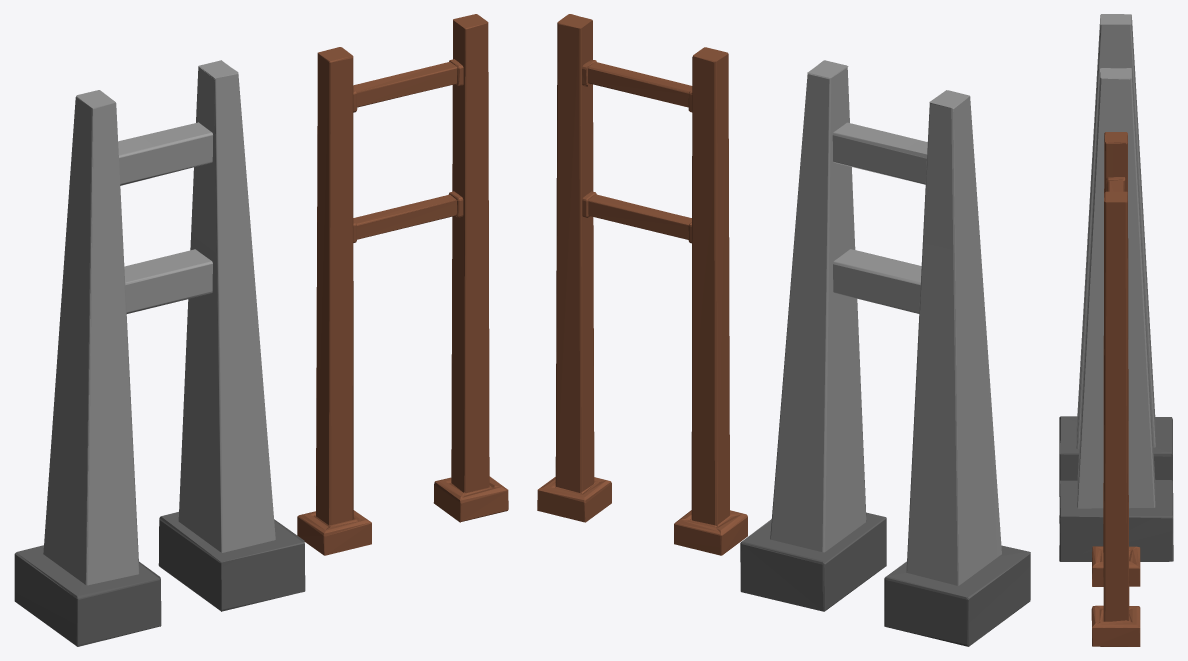
Rendered from wood-tower.fbx.
3 renders of one model, left to right at view 1: azimuth 30°, elevation 25°; view 2: azimuth 150°, elevation 25°; view 3: azimuth 270°, elevation 25°, orthographic. The views are drawn at different scales.
Visible parts, largest first — view 1: Tower_1, Tower_2.004, Tower_2.003, Tower_2.001, Tower_2.002; view 2: Tower_1, Tower_2.004, Tower_2.003, Tower_2.001, Tower_2.002; view 3: Tower_1, Tower_2.003, Tower_2.004, Tower_2.001.
Part boxes in pixels (<box>): Tower_1: <box>14,60,305,646</box>; Tower_2.004: <box>297,47,371,555</box>; Tower_2.003: <box>433,14,508,522</box>; Tower_2.001: <box>353,59,463,112</box>; Tower_2.002: <box>353,191,463,242</box>; Tower_1: <box>740,60,1030,646</box>; Tower_2.004: <box>674,47,747,555</box>; Tower_2.003: <box>537,14,611,522</box>; Tower_2.001: <box>582,59,692,112</box>; Tower_2.002: <box>582,191,691,243</box>; Tower_1: <box>1059,14,1173,561</box>; Tower_2.003: <box>1091,191,1140,646</box>; Tower_2.004: <box>1092,132,1140,586</box>; Tower_2.001: <box>1106,177,1125,191</box>.
Bounding box in the file's own units: 360 × 392 × 87.37.
